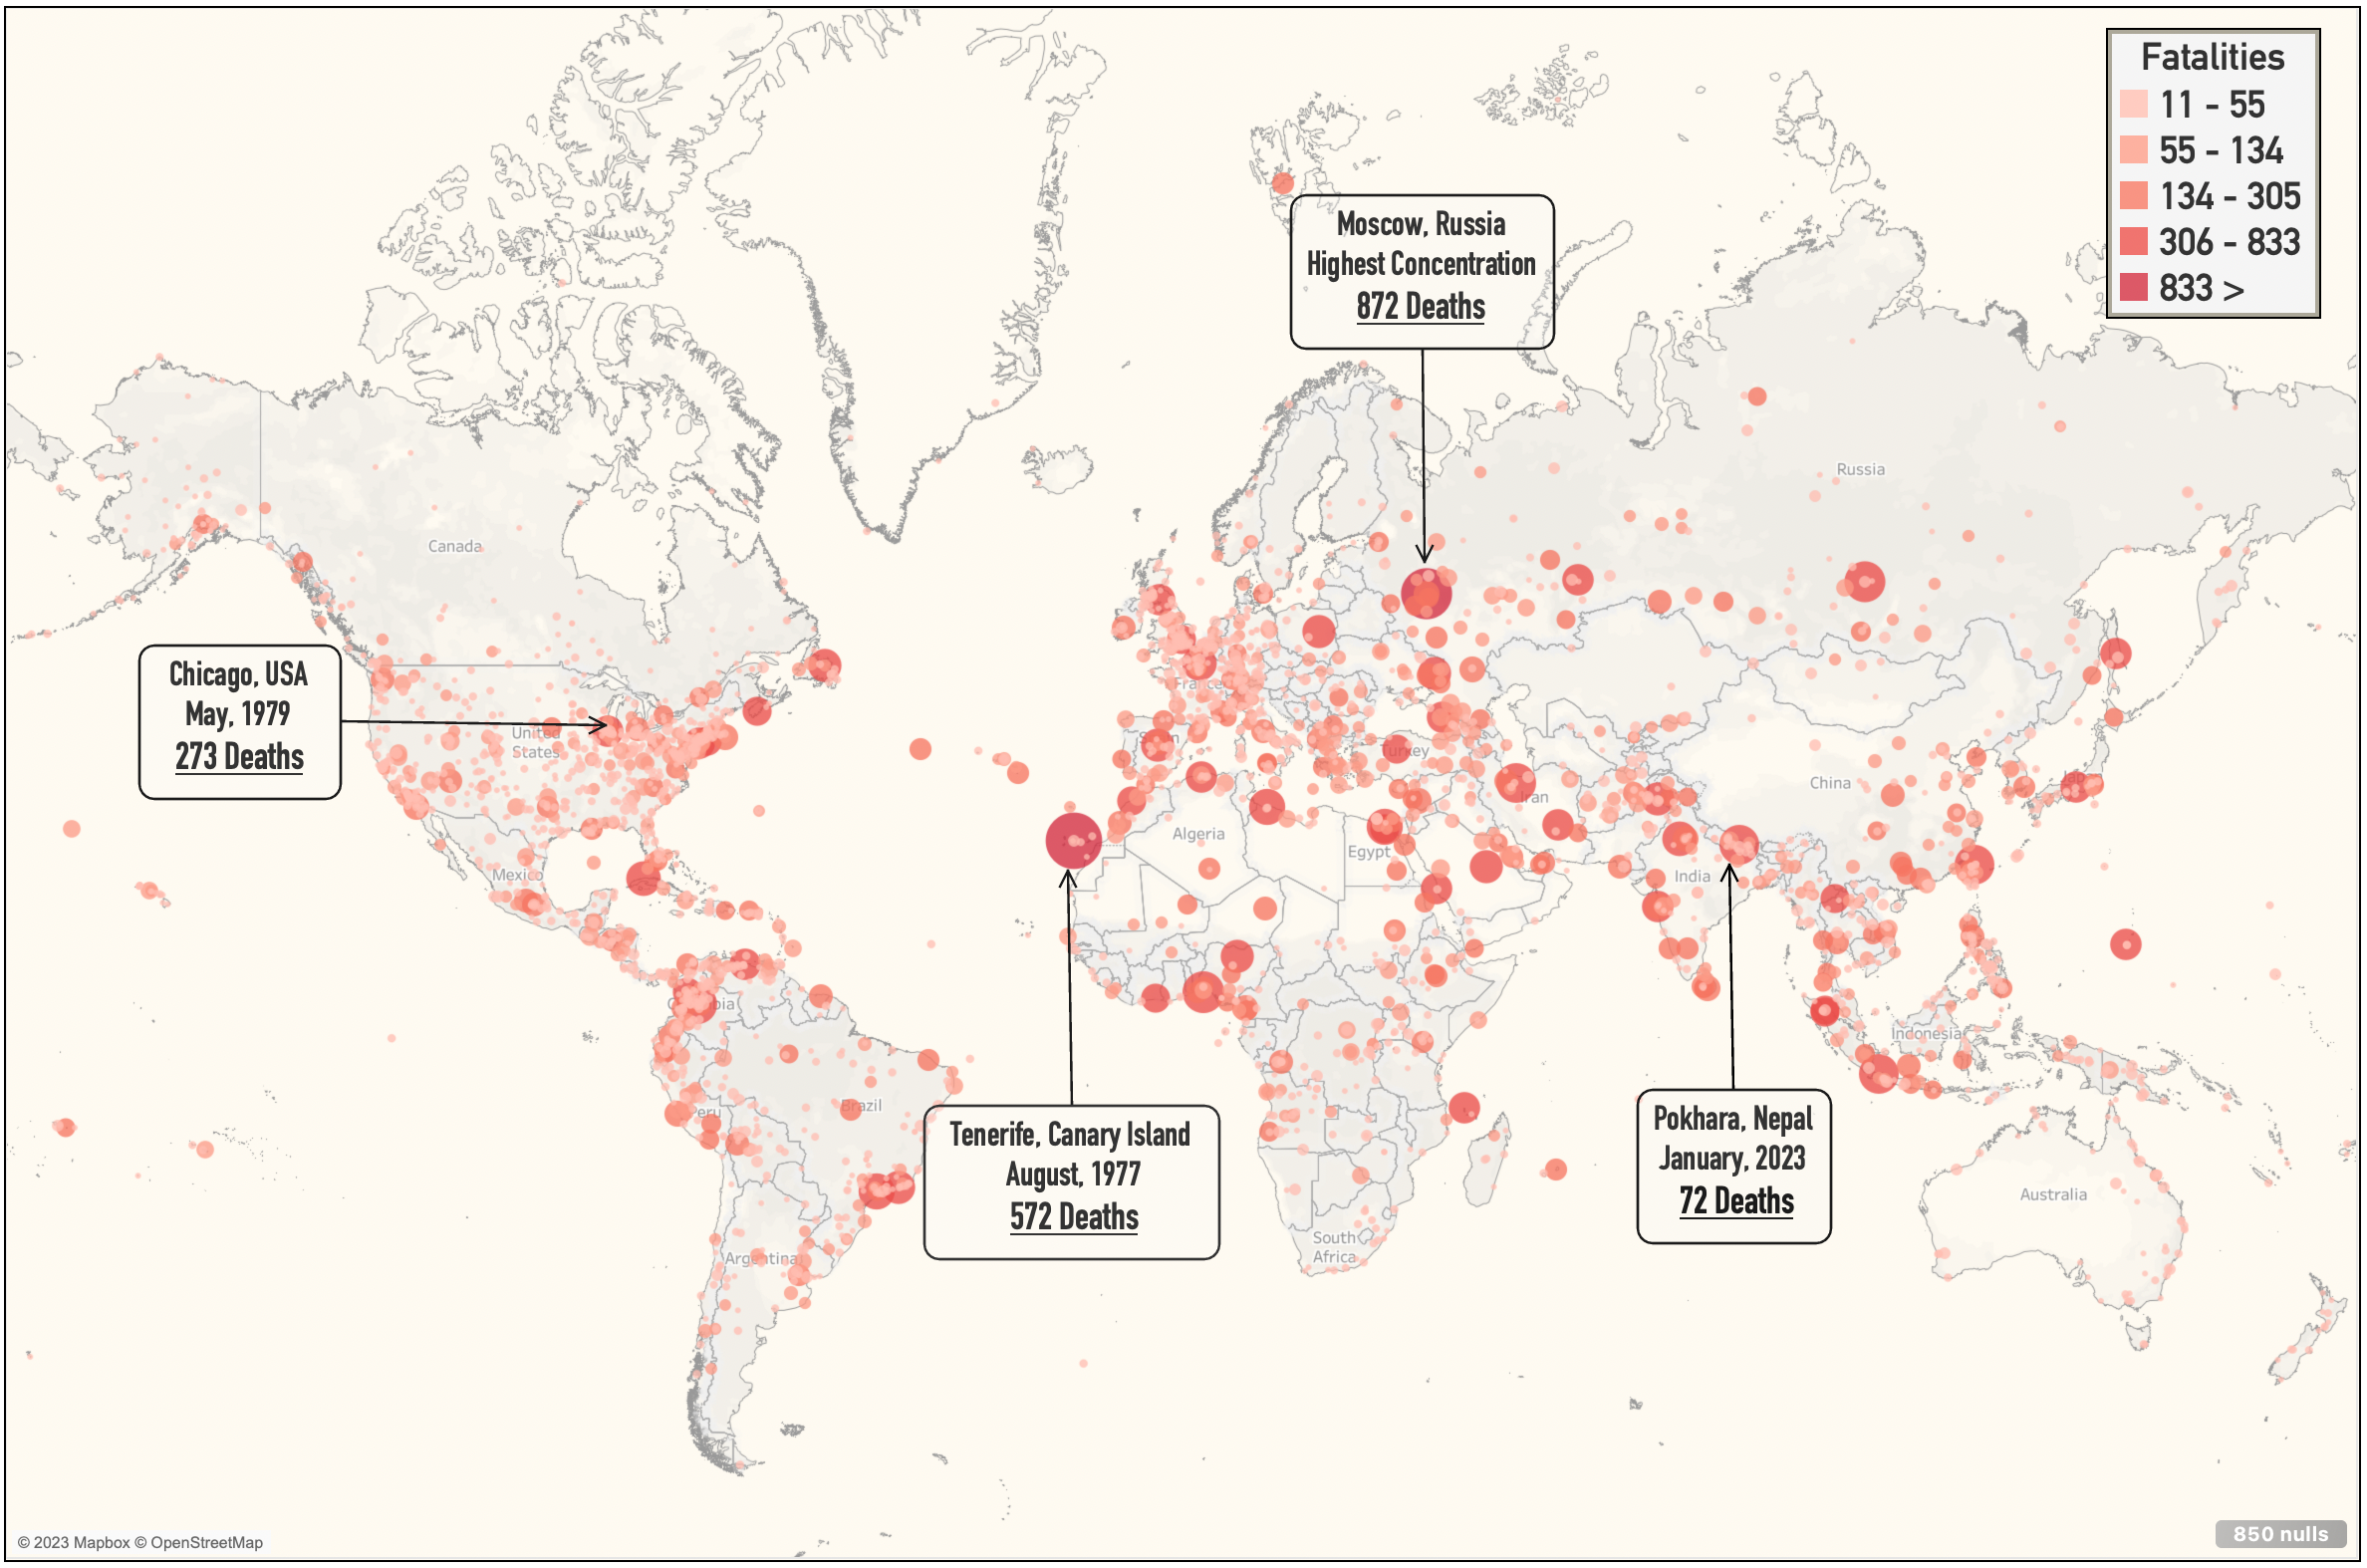

The page's visual inventory and layout, read from the dashboard file:
{"tool":"tableau","page":{"name":"Dashboard_Map","canvas":[1200,900],"ordinal":0},"visuals":[{"type":"worksheet","title":"Sheet 5","mark":"Automatic","rows":["latitude"],"cols":["longitude"],"box":[17,11,1183,781]},{"type":"legend","title":"Sheet 5","param":"[federated.0i57arz0id4zm21btt5wt0yg8qbb].[Location_clean, latitude, longitude (c","box":[1072,22,108,146]}]}

Visuals, with their boxes on the page's 1200x900 design canvas (x1, y1, x2, y2). These are canvas units, not pixel positions in the 2367x1568 screenshot, which may show the page scaled, cropped or inside an application window:
"Sheet 5" worksheet: x1=17 y1=11 x2=1200 y2=792
"Sheet 5" legend: x1=1072 y1=22 x2=1180 y2=168
